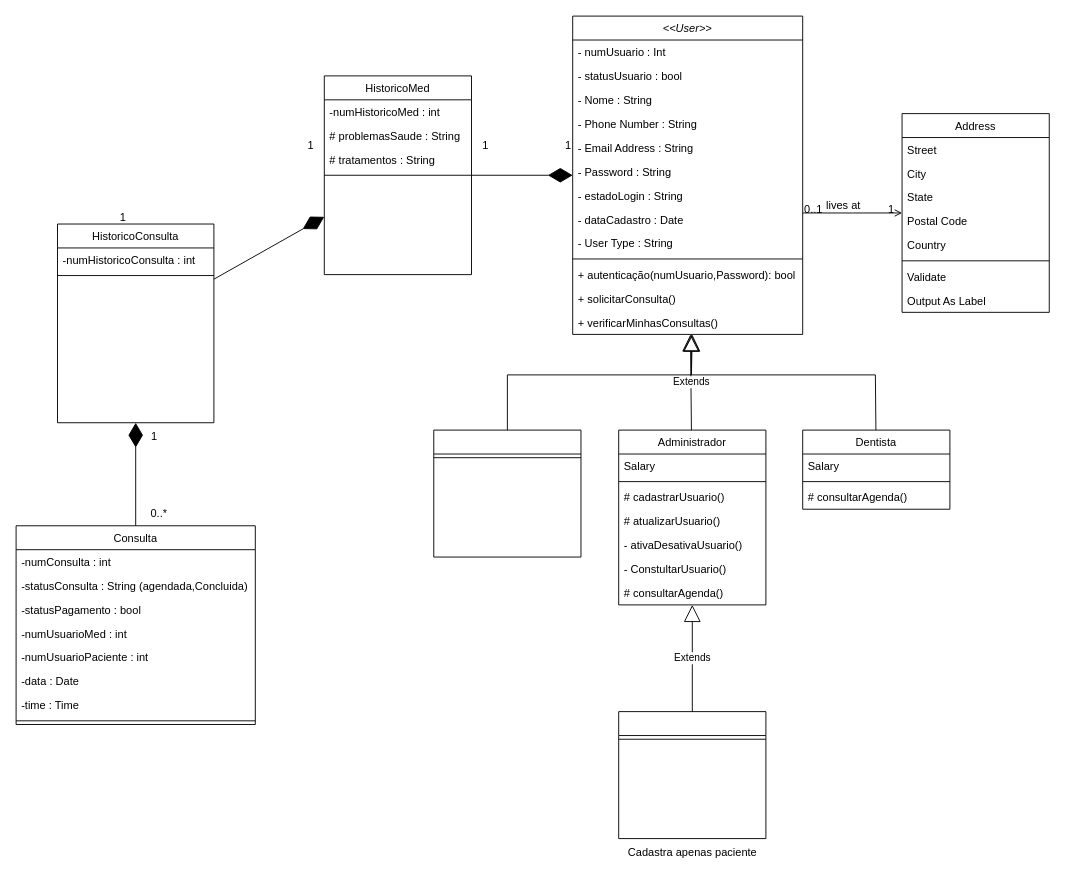
The diagram is 1065 pixels wide and 882 high, and some of its shapes have lost their labels. The shapes that lost their labels are listed below. From the top down, each one's centre as x and y in pixels, then its label:
At [507,493]: "Paciente".
At [692,775]: "Recepcionista".
